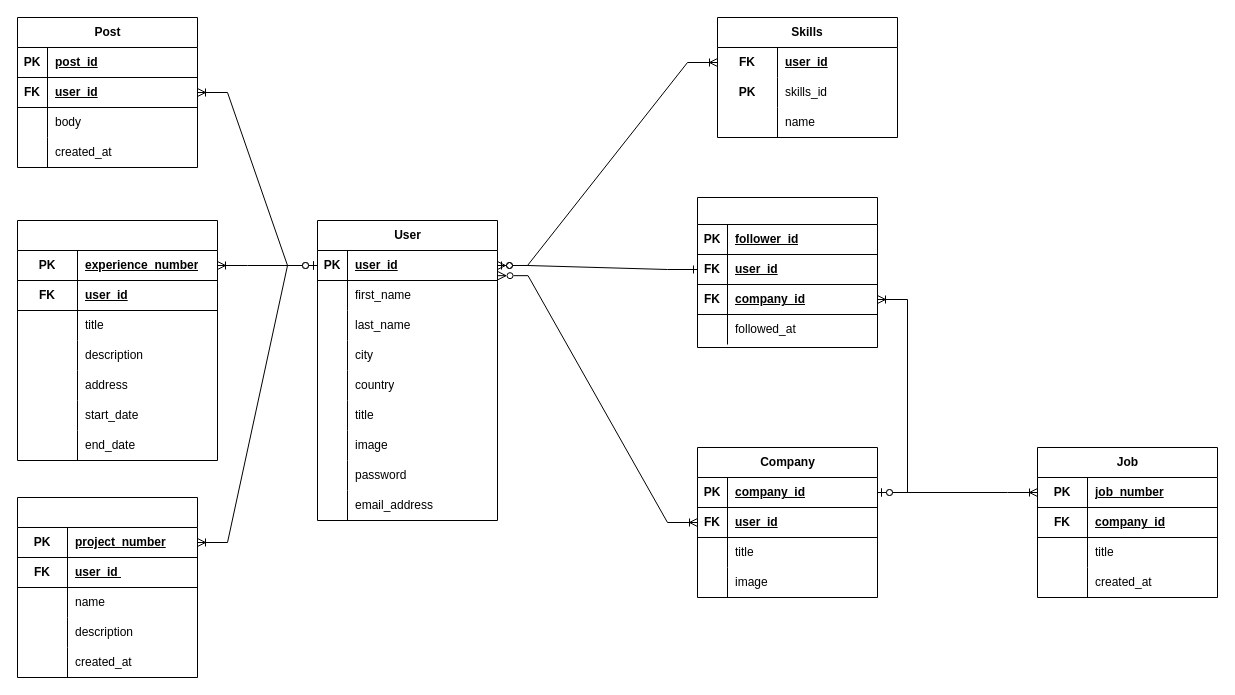
The diagram is 1235 pixels wide and 695 high, and some of its shapes have lost their labels. The box of each missing label's shape, as (x1, y1, x2, y2) in pixels:
Excperience: (16, 220, 218, 460)
Followers: (696, 196, 878, 348)
Projects: (16, 496, 198, 678)
